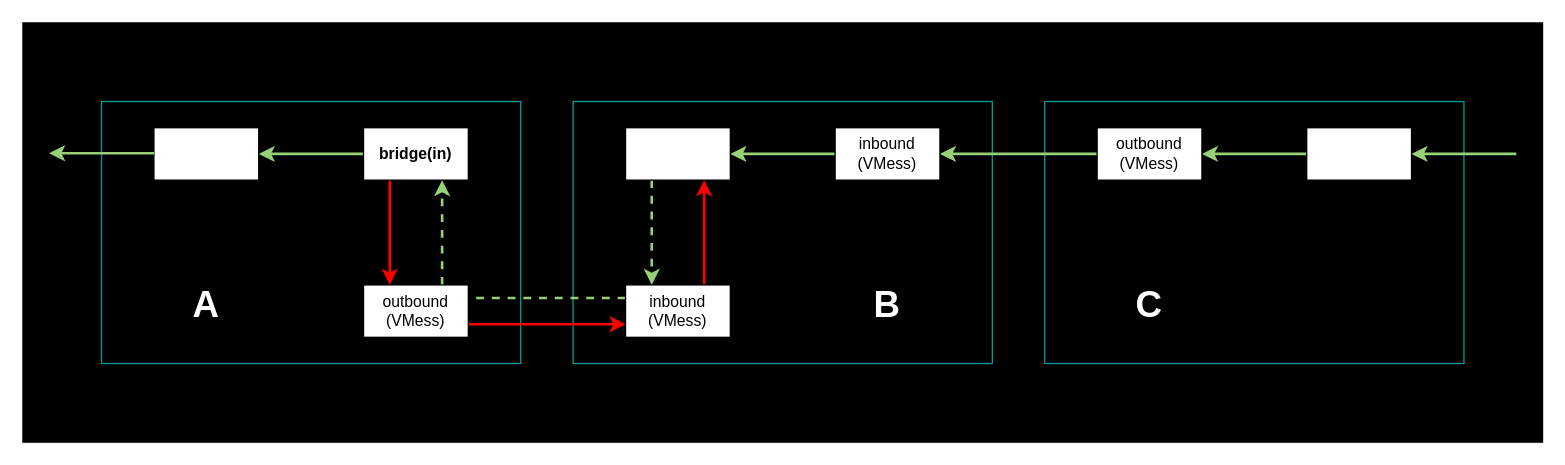
Image size: 1565x465. Some labels were removed from this diagram. The shapes that lost their labels are listed below. From the top down, each one's box as (x1, y1, x2, y2) in pixels, then its label:
(153, 126, 259, 180): outbound (Freedom)
(624, 126, 730, 180): portal(out)
(1305, 126, 1412, 180): inbound (Socks)
